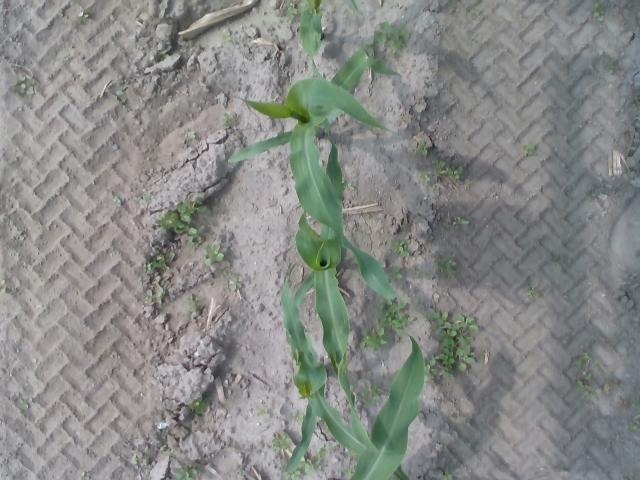Maize: (228, 48, 402, 300), (294, 119, 386, 457), (281, 262, 374, 474), (348, 329, 426, 480), (298, 0, 359, 79)
Weeds: (424, 309, 478, 383), (156, 197, 208, 246), (418, 156, 463, 188), (373, 296, 416, 328), (374, 21, 410, 58), (573, 372, 601, 405), (302, 444, 331, 472), (360, 325, 388, 352), (354, 380, 382, 406), (144, 280, 168, 306), (182, 290, 204, 318), (267, 432, 296, 452), (140, 252, 166, 273), (203, 242, 225, 266), (222, 270, 244, 292), (441, 216, 471, 232), (391, 236, 412, 258), (14, 76, 36, 96), (550, 250, 570, 272), (174, 462, 198, 480), (570, 348, 596, 364), (114, 82, 130, 104), (192, 398, 214, 414), (591, 0, 605, 23), (522, 280, 538, 300), (130, 452, 152, 466), (414, 138, 430, 157), (439, 258, 457, 274), (290, 408, 306, 426), (612, 396, 630, 412), (286, 1, 298, 23), (520, 142, 536, 158), (385, 266, 403, 280), (602, 380, 621, 393), (584, 188, 604, 200), (220, 113, 237, 127), (606, 60, 620, 74), (19, 396, 34, 409), (164, 448, 180, 460), (284, 470, 303, 480), (258, 405, 271, 419), (78, 10, 91, 24), (153, 52, 170, 62), (344, 180, 356, 194), (299, 0, 310, 14), (416, 269, 431, 279), (141, 192, 151, 206), (440, 470, 454, 480), (222, 30, 232, 42), (112, 195, 124, 205), (626, 422, 638, 432), (343, 466, 353, 478), (347, 450, 359, 460), (100, 350, 112, 360), (449, 0, 457, 13), (633, 92, 640, 106), (0, 280, 8, 292), (471, 8, 483, 16), (470, 66, 478, 78), (186, 131, 196, 140), (418, 412, 426, 423), (79, 472, 90, 480), (632, 398, 640, 408), (432, 187, 440, 196), (594, 363, 602, 372)
